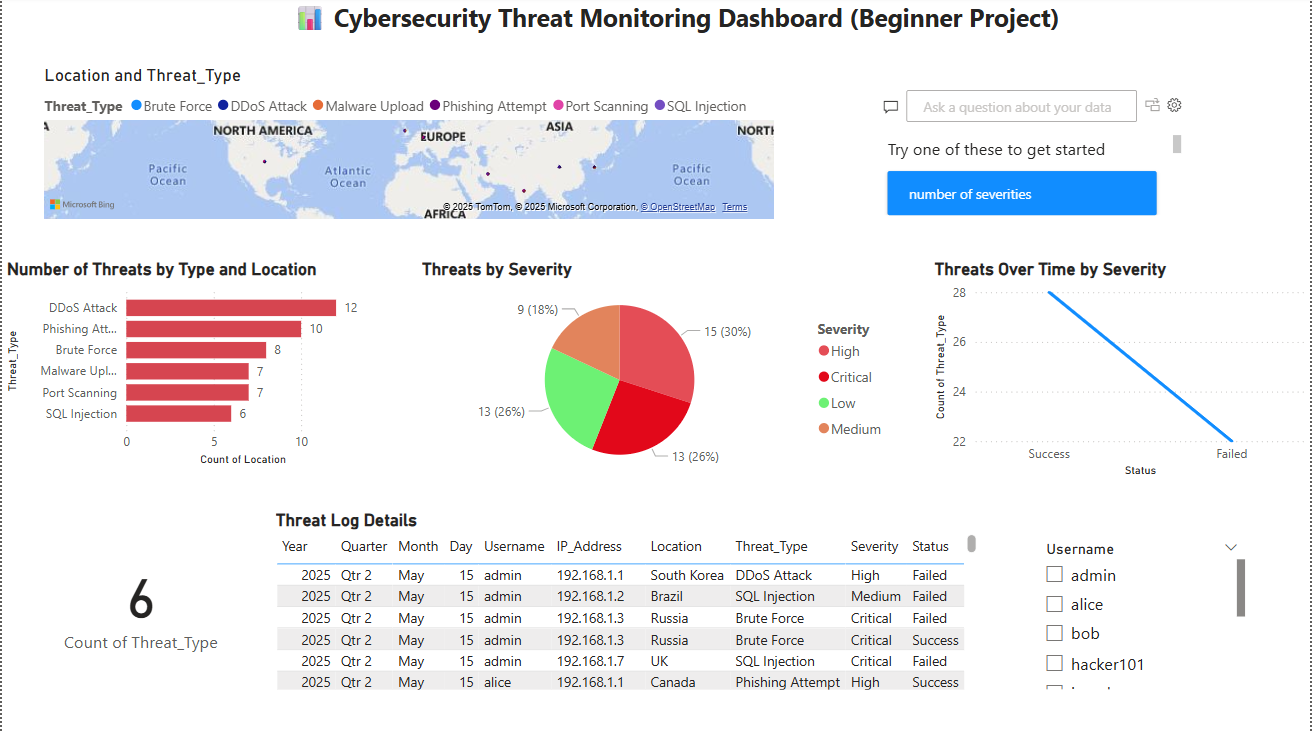

What the dashboard file says about the page in this screenshot:
{"tool":"powerbi","page":{"name":"Page 1","canvas":[1280,720],"ordinal":0},"visuals":[{"type":"map","fields":{"Category":["Cyber_Threat_Logs_Sample.Location"],"Series":["Cyber_Threat_Logs_Sample.Threat_Type"]},"box":[36.2,67.5,722.5,156.2],"z":0},{"type":"barChart","title":"Number of Threats by Type and Location","fields":{"Category":["Cyber_Threat_Logs_Sample.Threat_Type"],"Y":["Cyber_Threat_Logs_Sample.Location"]},"box":[0,256.2,362.5,207.5],"z":1000},{"type":"tableEx","title":"Threat Log Details","fields":{"Values":["Cyber_Threat_Logs_Sample.Timestamp.Variation.Date Hierarchy.Year","Cyber_Threat_Logs_Sample.Timestamp.Variation.Date Hierarchy.Quarter","Cyber_Threat_Logs_Sample.Timestamp.Variation.Date Hierarchy.Month","Cyber_Threat_Logs_Sample.Timestamp.Variation.Date Hierarchy.Day","Cyber_Threat_Logs_Sample.Username","Cyber_Threat_Logs_Sample.IP_Address","Cyber_Threat_Logs_Sample.Location","Cyber_Threat_Logs_Sample.Threat_Type","Cyber_Threat_Logs_Sample.Severity","Cyber_Threat_Logs_Sample.Status"]},"box":[262.5,502.5,695,181.2],"z":2000},{"type":"card","fields":{"Values":["Cyber_Threat_Logs_Sample.Threat_Type"]},"box":[10,502.5,252.5,181.2],"z":3000},{"type":"lineChart","title":"Threats Over Time by Severity","fields":{"Y":["Cyber_Threat_Logs_Sample.Threat_Type"],"Category":["Cyber_Threat_Logs_Sample.Status"]},"box":[907.5,256.2,372.5,218.8],"z":4000},{"type":"qnaVisual","box":[853.8,67.5,308.8,156.2],"z":5000},{"type":"pieChart","title":"Threats by Severity","fields":{"Category":["Cyber_Threat_Logs_Sample.Severity"],"Y":["Cyber_Threat_Logs_Sample.Timestamp"]},"box":[406.2,256.2,468.8,218.8],"z":6000},{"type":"slicer","fields":{"Values":["Cyber_Threat_Logs_Sample.Username"]},"box":[1008.8,527.5,212.5,156.2],"z":7000},{"type":"textbox","box":[280,0,813.8,47.5],"z":7001}]}

Visuals, with their boxes in screenshot pixels (x1, y1, x2, y2), scaled from the page's 1280x720 canvas onto the 1314x732 screenshot:
map - Cyber_Threat_Logs_Sample.Location x Cyber_Threat_Logs_Sample.Threat_Type: box(37, 69, 779, 227)
"Number of Threats by Type and Location" barChart: box(0, 260, 372, 471)
"Threat Log Details" tableEx: box(269, 511, 983, 695)
card - Cyber_Threat_Logs_Sample.Threat_Type: box(10, 511, 269, 695)
"Threats Over Time by Severity" lineChart: box(932, 260, 1313, 483)
qnaVisual: box(876, 69, 1193, 227)
"Threats by Severity" pieChart: box(417, 260, 898, 483)
slicer - Cyber_Threat_Logs_Sample.Username: box(1036, 536, 1254, 695)
textbox: box(287, 0, 1123, 48)
